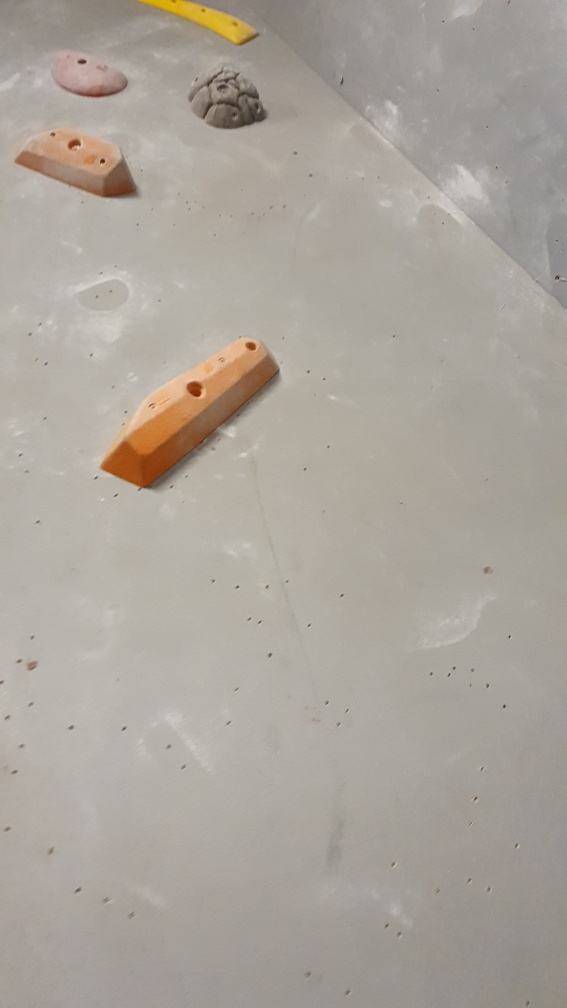Jug: (181, 62, 270, 130)
Pinch: (95, 332, 283, 494), (14, 127, 141, 200)
